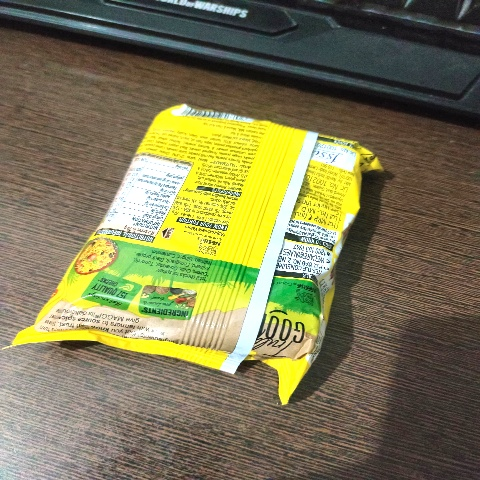maggi: (22, 80, 385, 411)
